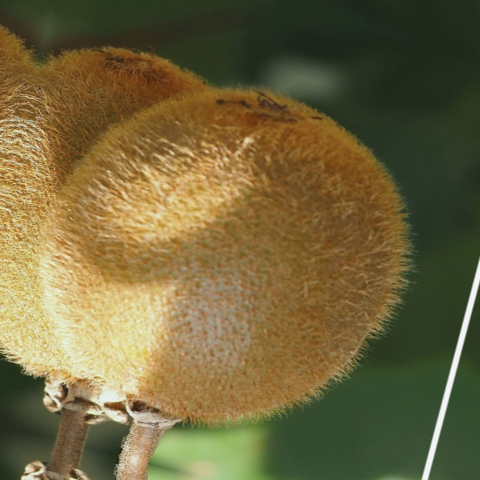kiwi: (1, 19, 454, 480)
